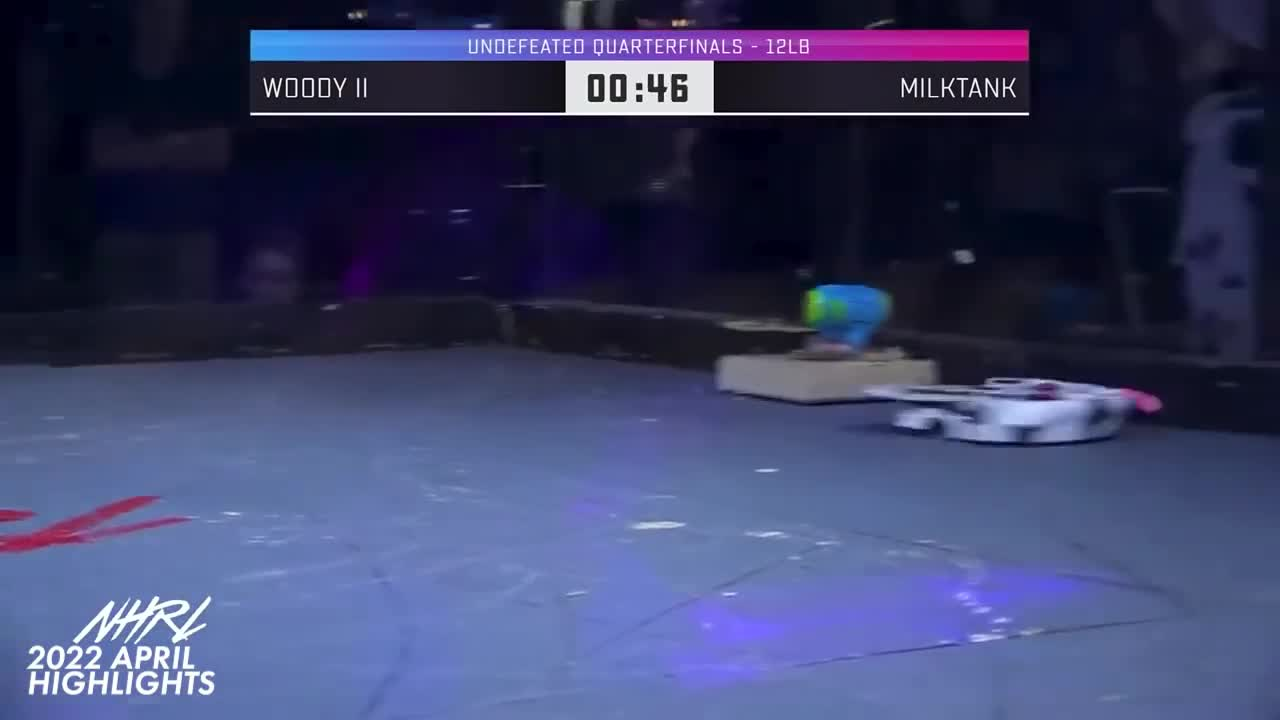combatbot: (866, 373, 1131, 448), (710, 334, 938, 404)
